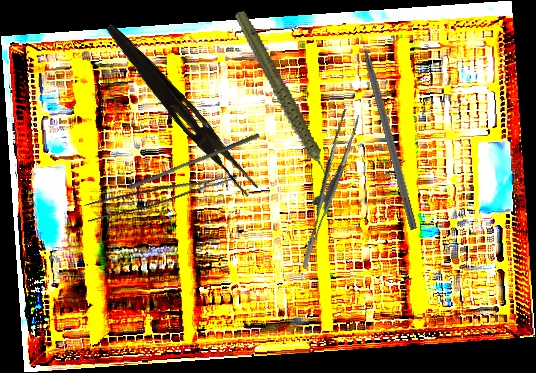Dressing Forceps: (96, 20, 265, 198)
Handpiece: (233, 0, 331, 199)
Hook Surgical: (355, 21, 420, 231)
Pusher: (128, 127, 260, 195)
Tissue Forceps: (276, 108, 375, 270), (82, 157, 238, 227)
